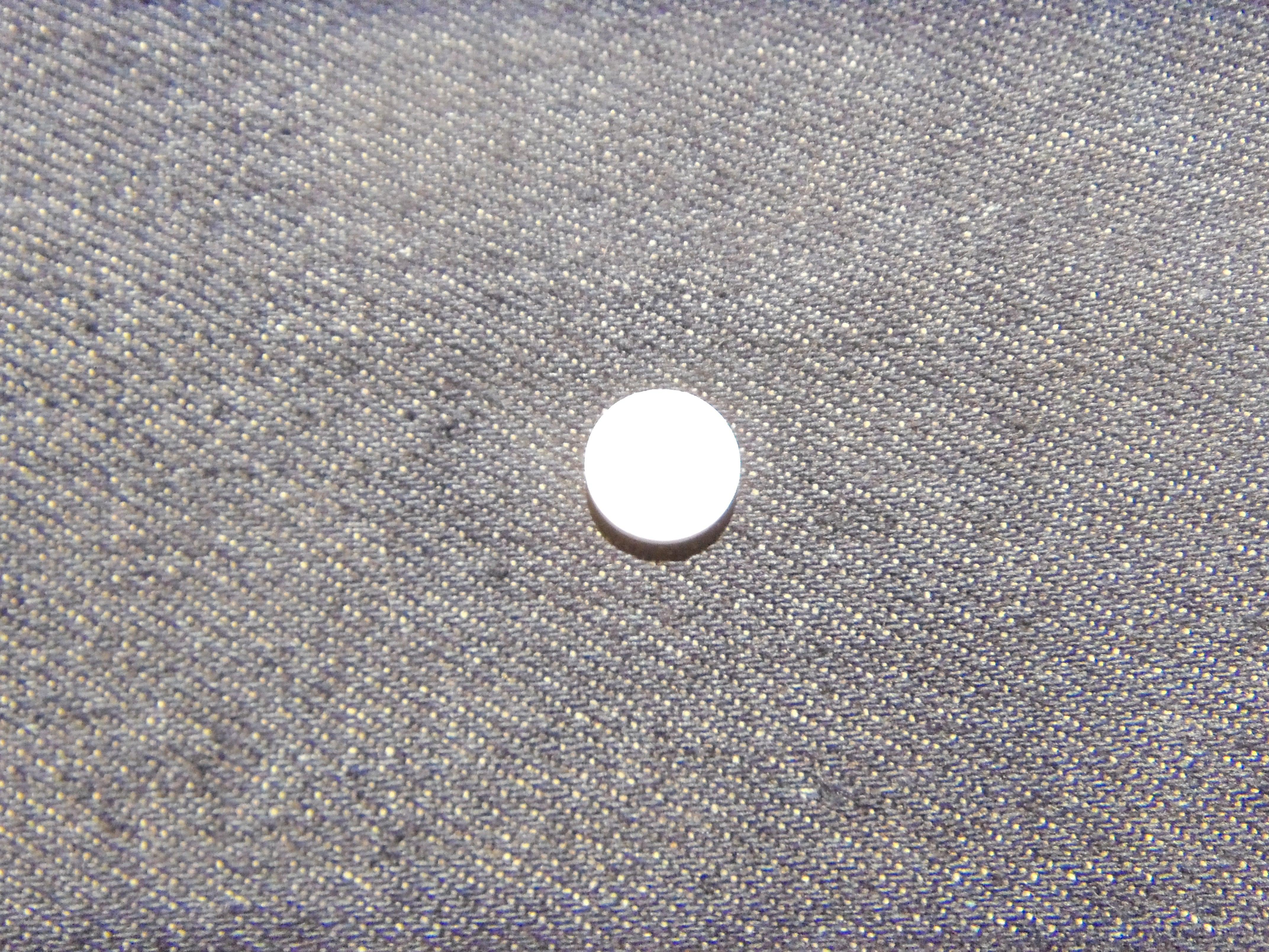Pill: (577, 382, 746, 554)
